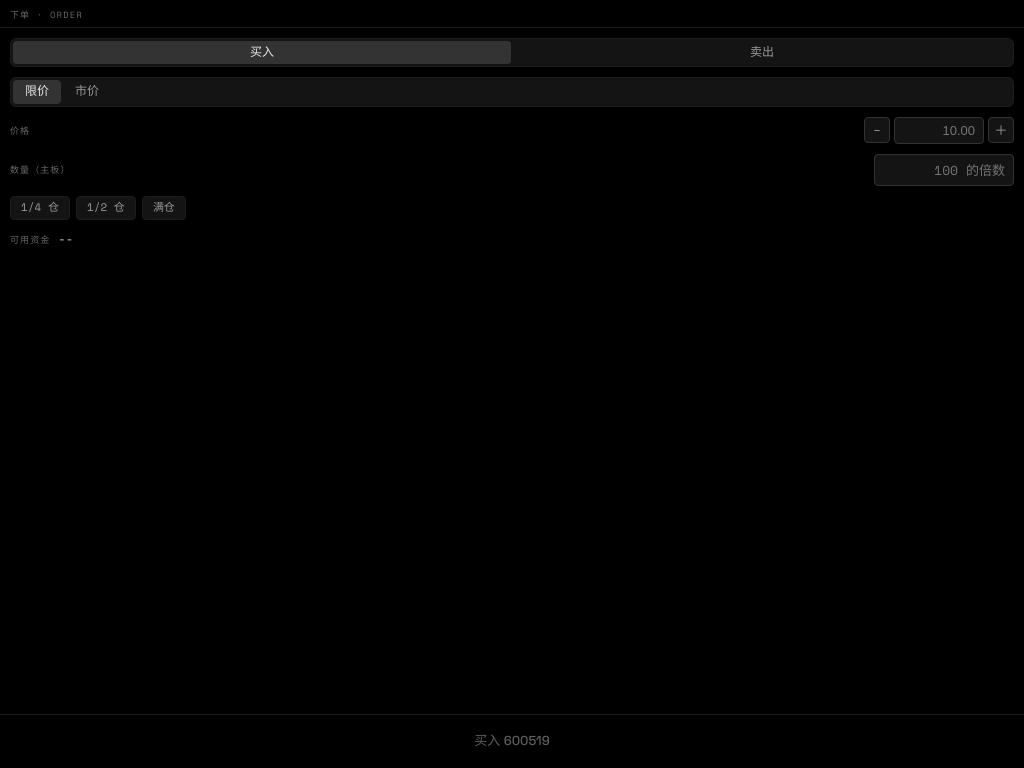
Scenario: 下单面板（01 §4.7） › 数量校验：主板须 100 整数倍，违规显示文案且禁止提交
Type "150" into the field with placeholder "100 的倍数".
click(944, 170); type("150")  # box top-left (874, 154), bottom-right (1014, 186)
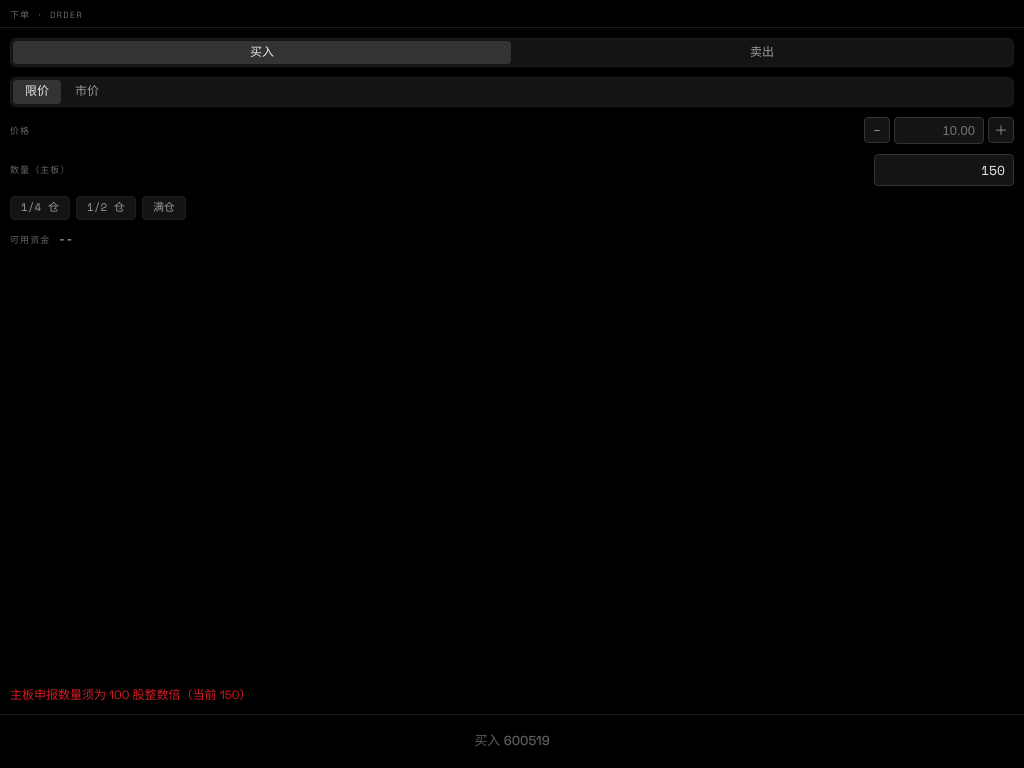
Expected: the button with class "op-submit" is disabled, top-left (10, 723), bottom-right (1014, 760)
Now the text "100 股整数倍" is shown, box top-left (10, 687), bottom-right (252, 703)
